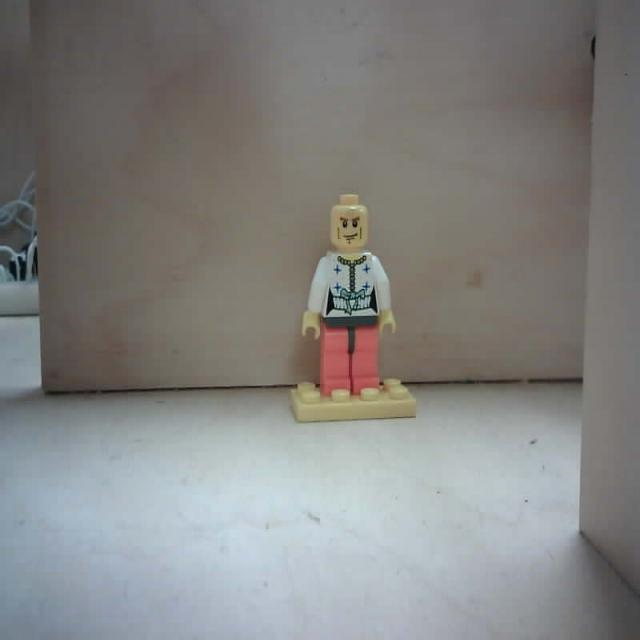Lego-People: (288, 194, 414, 426)
